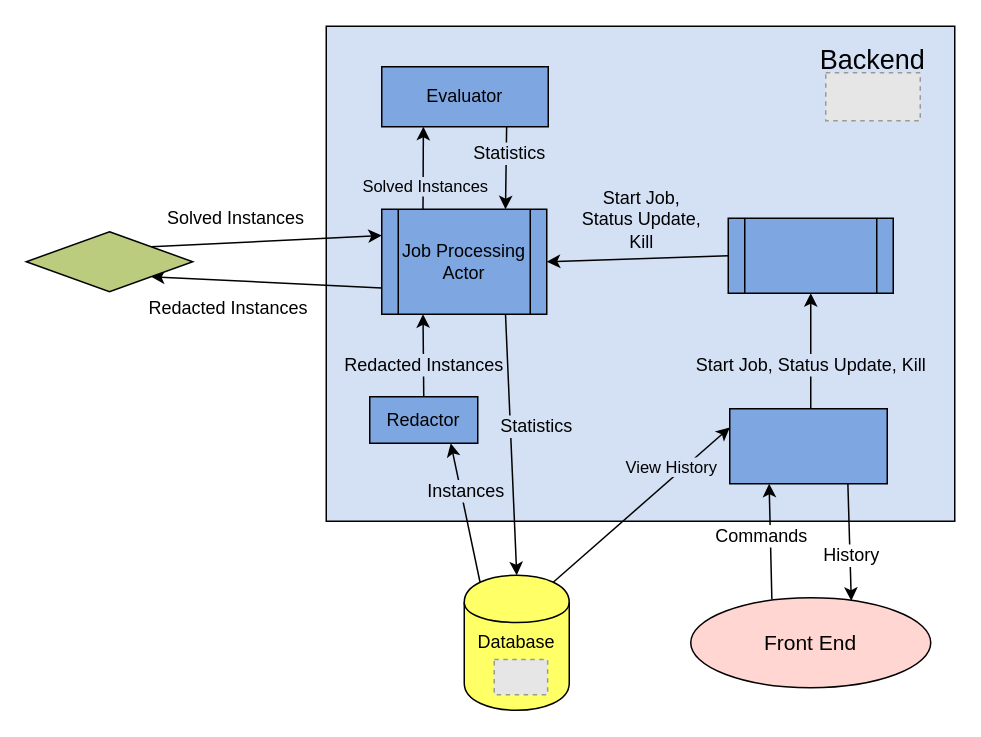
Some shapes in this 981 by 737 pixel diagram are drawn without their labels. Grey dashed boxes stand in for pictures. Each missing label, with the centre of its shape:
Core: the point at 807,445
Master Actor: the point at 810,255
Solver: the point at 109,261
